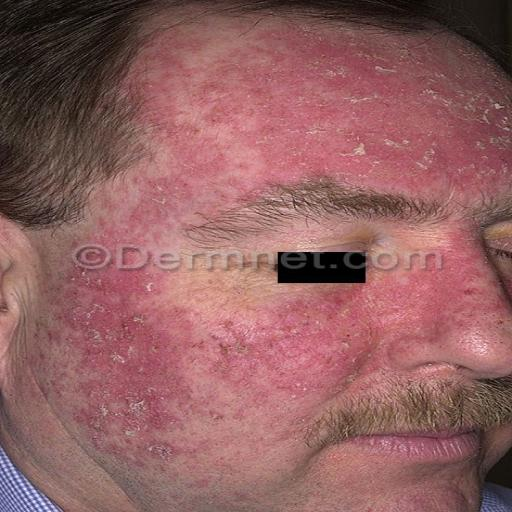Skin_Lesion: (246, 45, 490, 178), (57, 265, 185, 342), (88, 351, 180, 440), (278, 311, 376, 390), (385, 266, 495, 332), (149, 79, 235, 161), (0, 457, 68, 510), (125, 174, 168, 230), (206, 316, 250, 368), (34, 330, 64, 377), (0, 280, 12, 332)
